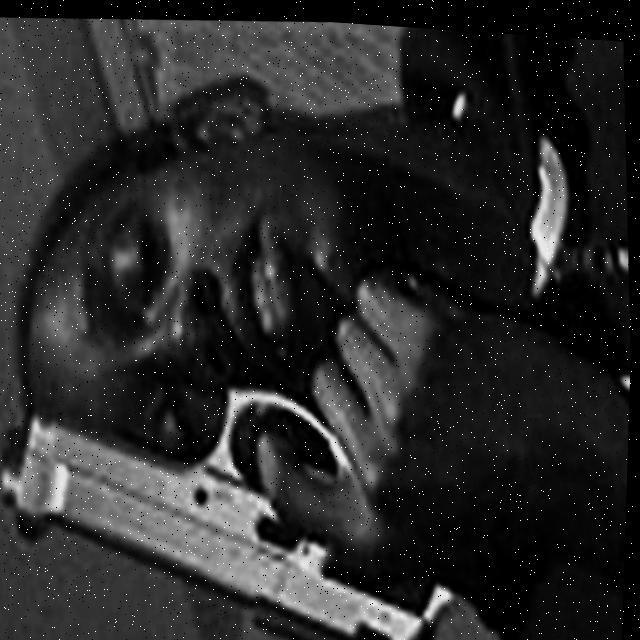pistol: (0, 358, 474, 640)
